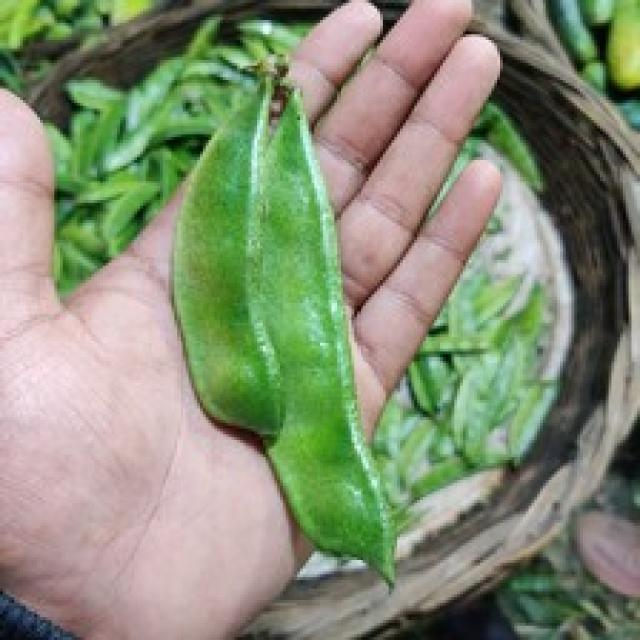Bean: (169, 51, 397, 592)
